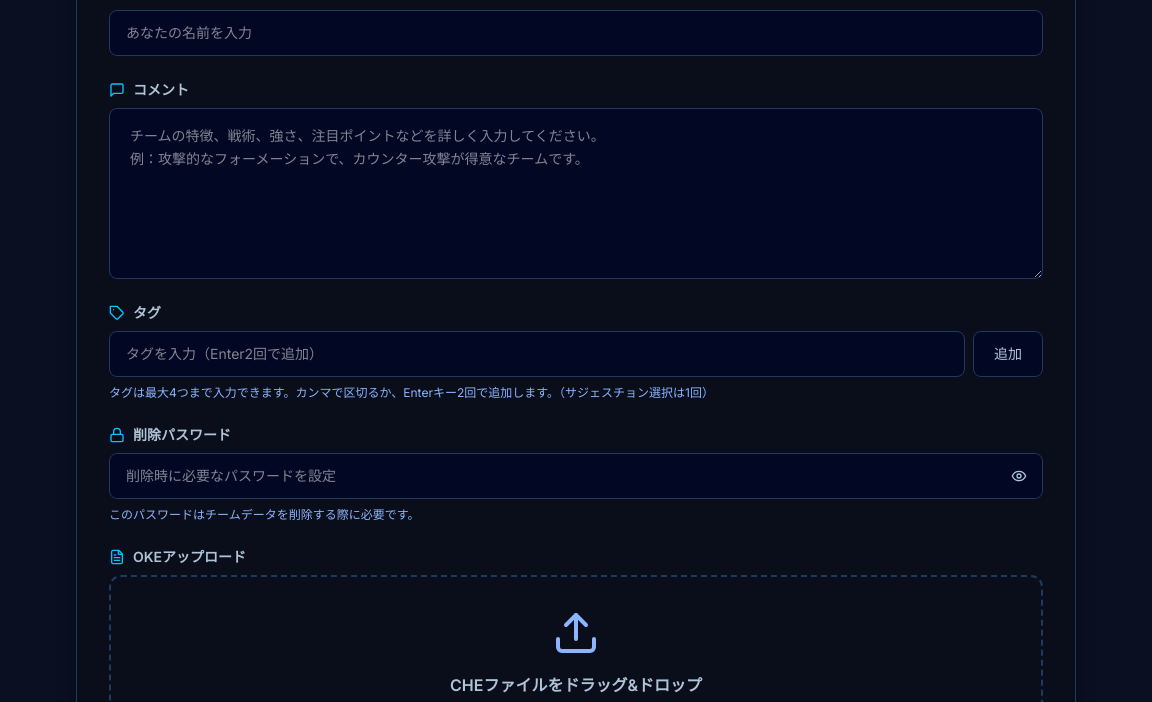
Test: FileUploadForm › Tag Suggestion Feature › should filter suggestions based on input text
The image size is (1152, 702).
(page scrolled)
In the field with placeholder "タグを入力（Enter2回で追加）": (537, 354) [109,331,965,377], type "ス"
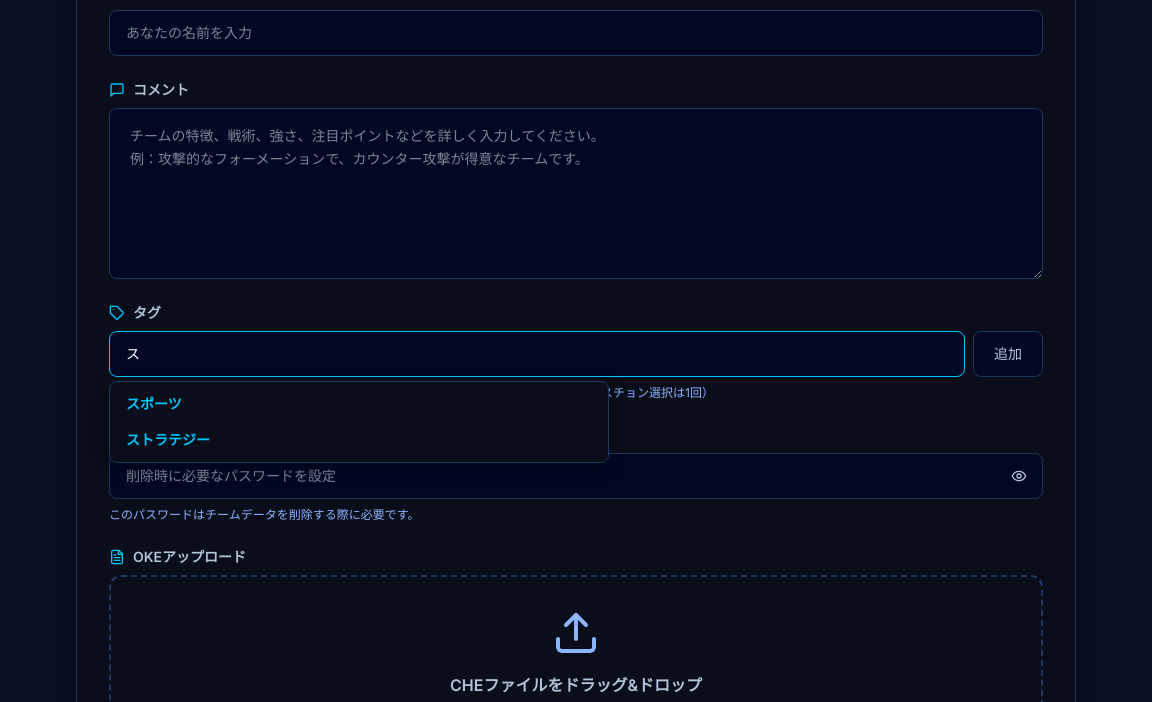
Check: the text "スポーツ" is shown, box [126,395,182,412]
Check: the text "ストラテジー" is shown, box [126,431,210,448]
Check: the text "アクション" is gone
